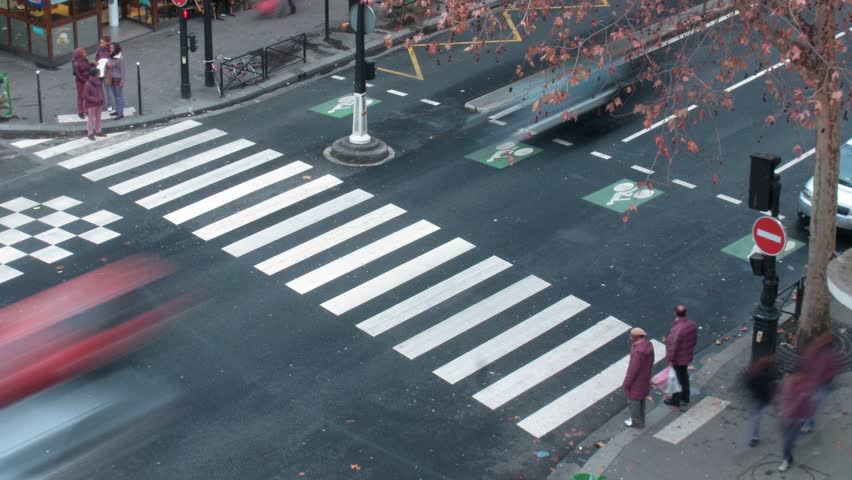pedestrian: (614, 325, 656, 436), (660, 301, 702, 407), (73, 44, 98, 126), (102, 40, 127, 120), (83, 68, 106, 146), (94, 35, 115, 87)
